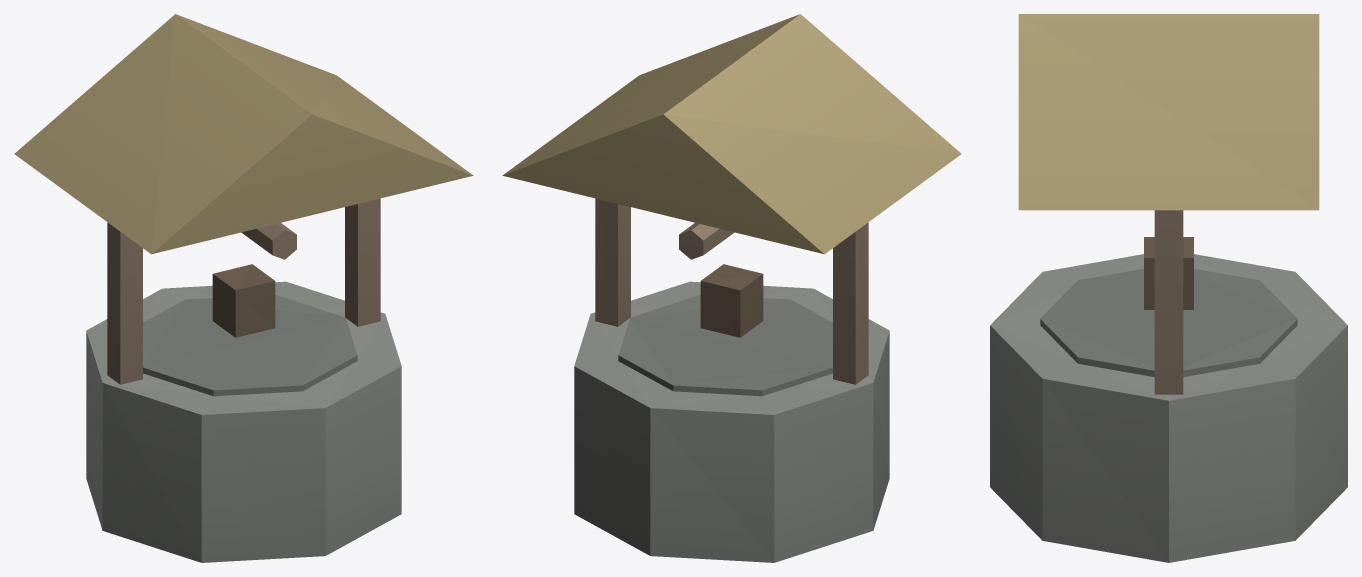
File: well.glb
3 views of the same model, side by side, from view 1: azimuth 30°, elevation 25°; view 2: azimuth 150°, elevation 25°; view 3: azimuth 270°, elevation 25° (orthographic). The views are drawn at different scales.
Parts seen in each view (by area): view 1: well; view 2: well; view 3: well.
Boxes of the visible parts, left/top/right/bottom form: well: left=14, top=14, right=473, bottom=562; well: left=502, top=14, right=961, bottom=562; well: left=990, top=14, right=1347, bottom=562.
Bounding box in the file's own units: 1.14 × 1.46 × 1.
